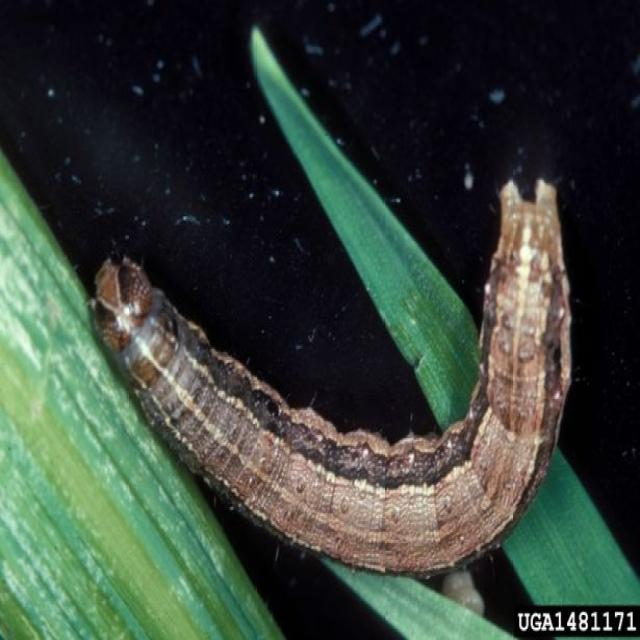worm: (89, 23, 575, 578)
